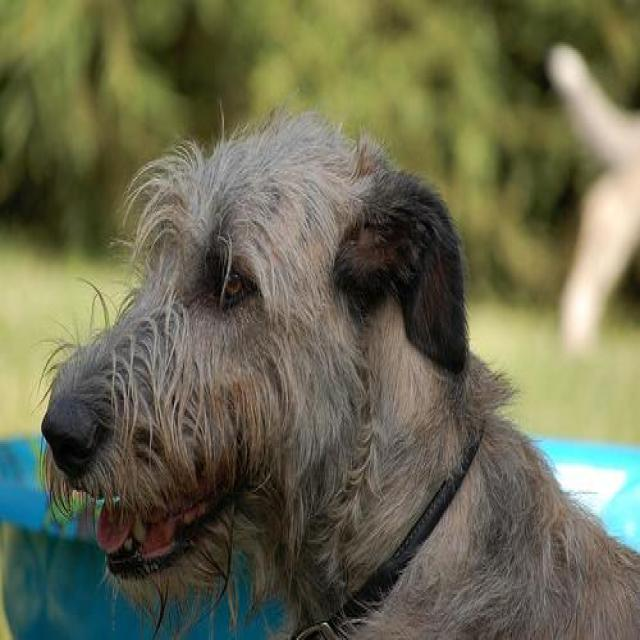irish_wolfhound: (36, 106, 639, 638)
